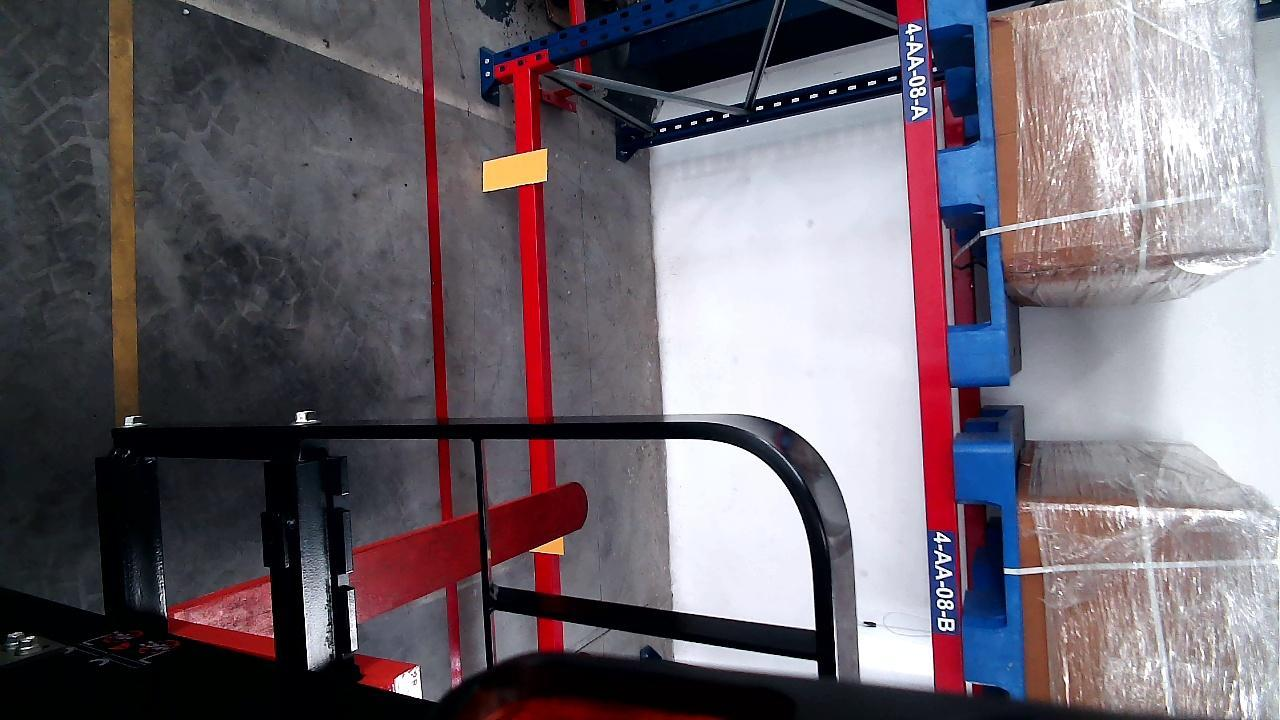red_line: (418, 4, 461, 689)
yellow_line: (109, 0, 139, 421)
